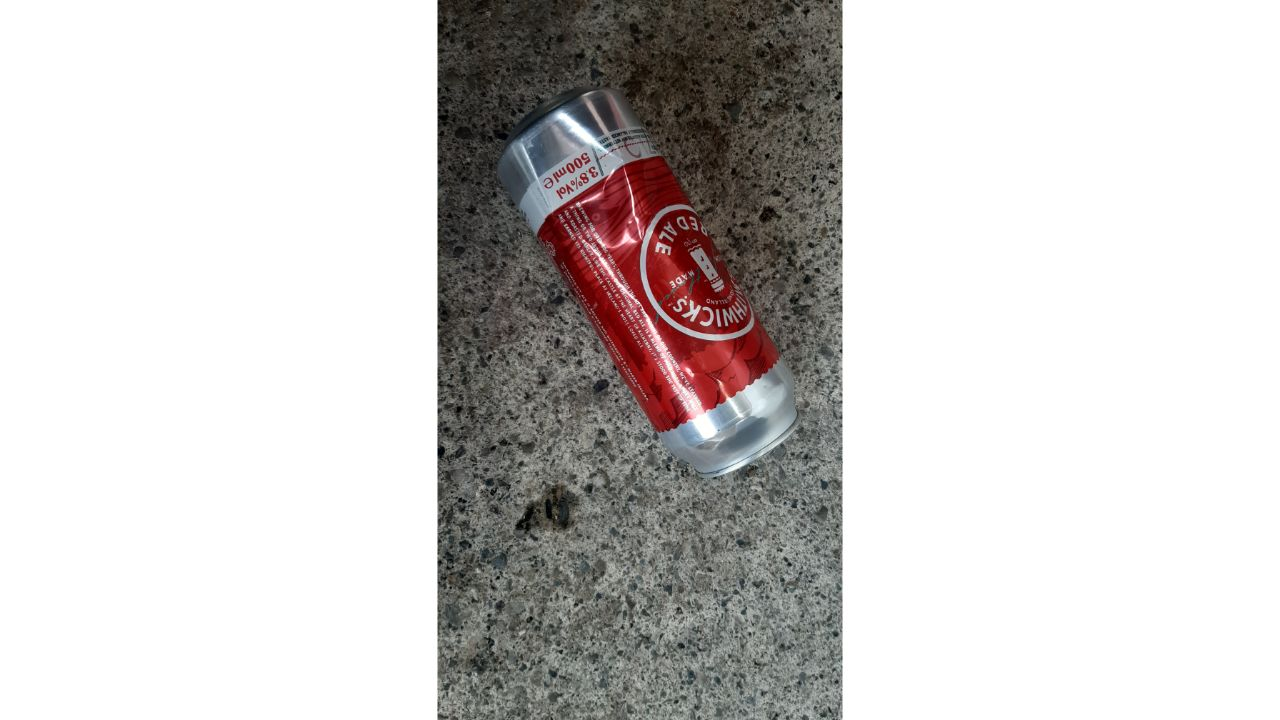Can: (484, 71, 819, 496)
